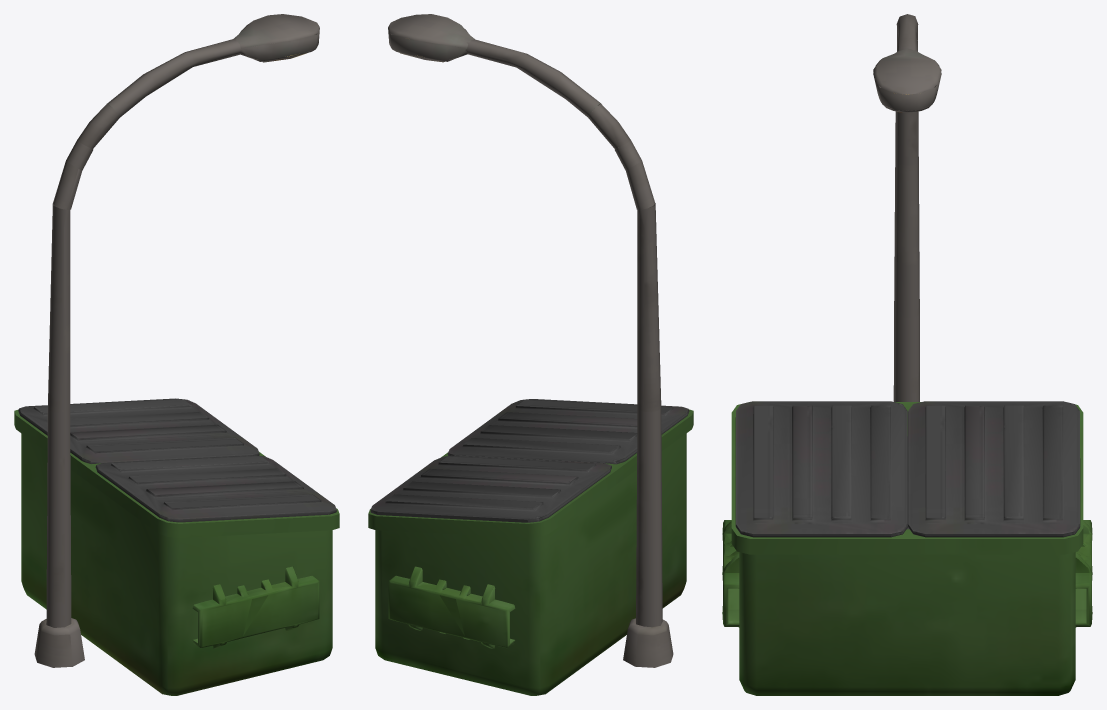
The model's file is props.glb.
3 renders of one model, left to right at view 1: azimuth 30°, elevation 25°; view 2: azimuth 150°, elevation 25°; view 3: azimuth 270°, elevation 25°, orthographic. The views are drawn at different scales.
Visible parts, largest first — view 1: dumpster, streetlight; view 2: dumpster, streetlight; view 3: dumpster, streetlight.
Boxes of the visible parts, box(x1,y1,x2,y2) form: dumpster: box(14, 398, 339, 695); streetlight: box(34, 14, 319, 667); dumpster: box(368, 399, 693, 695); streetlight: box(388, 14, 673, 667); dumpster: box(722, 401, 1092, 695); streetlight: box(873, 14, 941, 401).
Size of the model in its own units: 2.07 by 4.08 by 2.13.
Materials: 21 (21 with a texture image).
